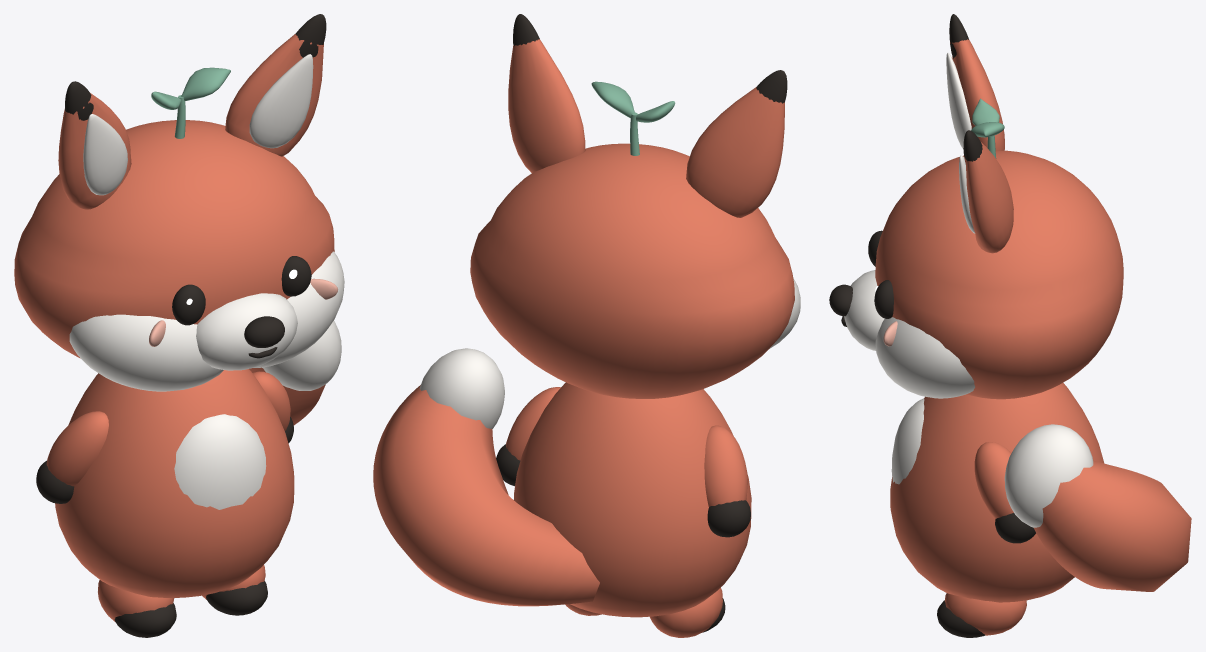
File: minifox_idle.glb
3 renders of one model, left to right at view 1: azimuth 30°, elevation 25°; view 2: azimuth 150°, elevation 25°; view 3: azimuth 270°, elevation 25°, orthographic. The views are drawn at different scales.
Parts seen in each view (by area): view 1: Fox_Head, Fox_Body, Fox_CheekFur_L, Fox_Belly, Fox_Snout, Fox_Ear_R, Fox_Ear_R_Inner, Fox_Ear_L, Fox_CheekFur_R, Fox_Arm_L_Mesh, Fox_Ear_L_Inner, Fox_Tail_Tip (+12 smaller); view 2: Fox_Head, Fox_Body, Fox_Tail, Fox_Ear_L, Fox_Ear_R, Fox_Tail_Tip, Fox_Arm_L_Mesh, Fox_Leg_L_Mesh, Fox_Arm_R_Mesh, Fox_Hand_L, Sprout_Leaf_R, Fox_Ear_L_Tip (+2 smaller); view 3: Fox_Head, Fox_Body, Fox_Tail, Fox_Tail_Tip, Fox_CheekFur_R, Fox_Ear_R, Fox_Ear_L, Fox_Leg_R_Mesh, Fox_Arm_R_Mesh, Fox_Snout, Fox_Belly, Fox_Ear_L_Inner (+5 smaller).
Part boxes in pixels (x1,y1,x2,y2): Fox_Head: (14,120,334,358); Fox_Body: (55,369,294,597); Fox_CheekFur_L: (69,314,223,391); Fox_Belly: (174,414,266,509); Fox_Snout: (196,293,297,370); Fox_Ear_R: (225,34,323,156); Fox_Ear_R_Inner: (249,54,313,148); Fox_Ear_L: (58,93,131,209); Fox_CheekFur_R: (254,251,344,367); Fox_Arm_L_Mesh: (46,411,108,486); Fox_Ear_L_Inner: (83,114,127,195); Fox_Tail_Tip: (262,320,341,390); Fox_Head: (470,143,794,398); Fox_Body: (514,382,751,617); Fox_Tail: (373,385,599,606); Fox_Ear_L: (686,87,784,217); Fox_Ear_R: (508,39,585,172); Fox_Tail_Tip: (419,348,504,428); Fox_Arm_L_Mesh: (704,425,747,506); Fox_Leg_L_Mesh: (650,587,722,637); Fox_Arm_R_Mesh: (506,387,560,460); Fox_Hand_L: (707,500,750,537); Sprout_Leaf_R: (591,81,634,118); Fox_Ear_L_Tip: (756,70,787,103); Fox_Head: (875,150,1123,399); Fox_Body: (890,383,1104,602); Fox_Tail: (1034,460,1191,591); Fox_Tail_Tip: (1004,424,1093,527); Fox_CheekFur_R: (875,317,974,398); Fox_Ear_R: (964,142,1013,253); Fox_Ear_L: (950,39,1004,151); Fox_Leg_R_Mesh: (944,593,1026,635); Fox_Arm_R_Mesh: (974,442,1013,518); Fox_Snout: (844,270,884,350); Fox_Belly: (891,398,924,484); Fox_Ear_L_Inner: (946,53,971,149).
Size of the model in its own units: 1.09 by 1.75 by 1.06.
